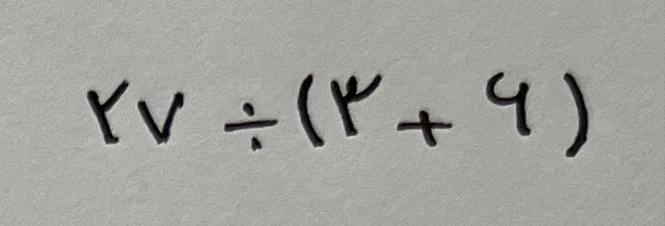character: (330, 74, 381, 137), (486, 71, 532, 136), (86, 79, 129, 145), (225, 101, 279, 150), (137, 92, 184, 145), (564, 71, 591, 158), (396, 110, 454, 147), (297, 74, 322, 147)
